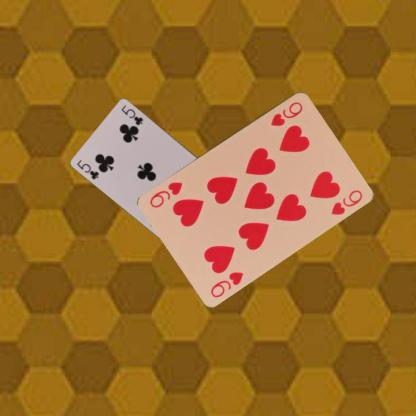5c: (74, 157, 100, 181)
9h: (207, 269, 245, 299), (268, 99, 304, 127)
